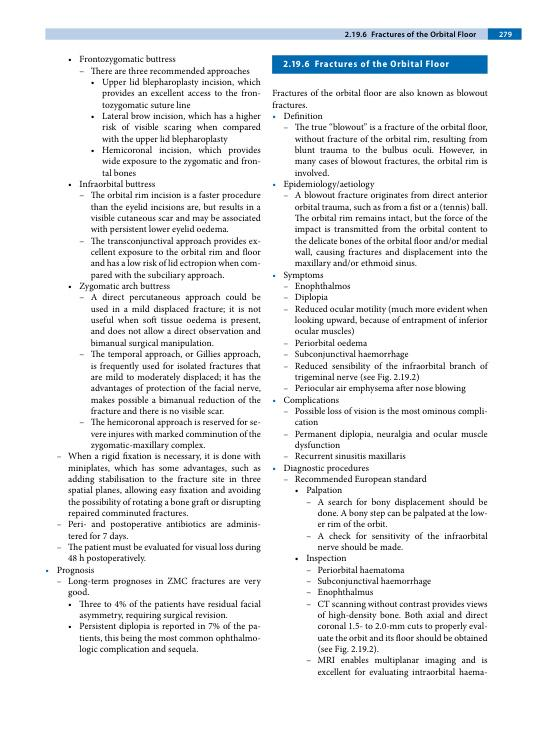header: (371, 30, 477, 38)
list: (45, 53, 261, 656), (271, 110, 489, 678)
section-heading: (314, 59, 450, 69)
text: (271, 88, 489, 109)
